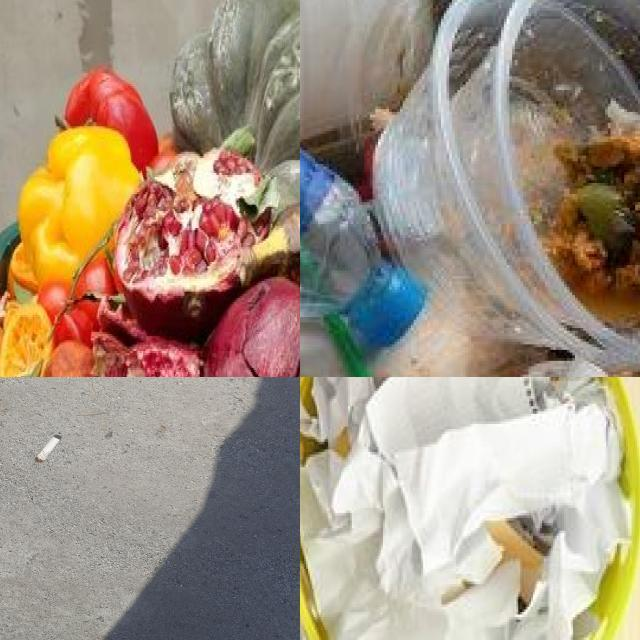Background: (0, 377, 300, 640)
Cig_bud: (36, 434, 62, 462)
Disposable: (375, 0, 640, 369), (300, 0, 430, 141)
Garbage: (300, 0, 640, 377), (0, 0, 300, 377), (300, 377, 636, 640)
Paper: (300, 377, 631, 640)
contaminated_waste: (375, 0, 640, 377)
